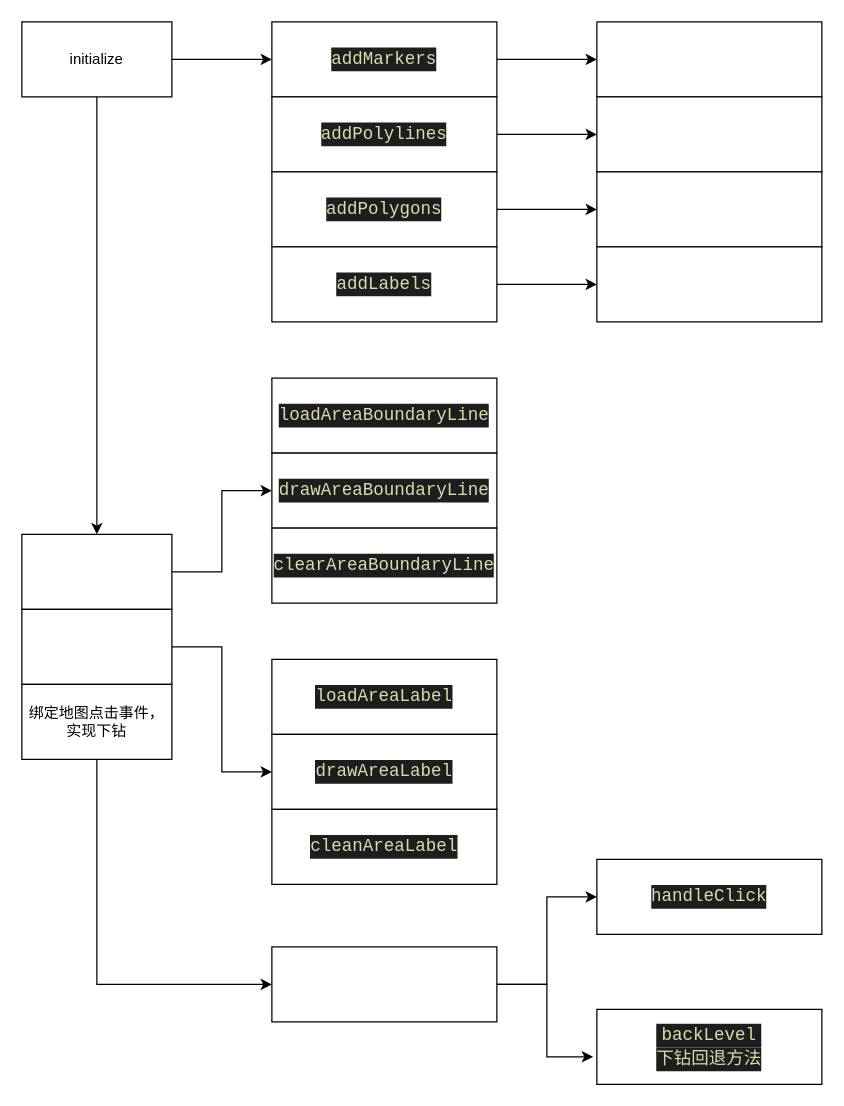
The diagram is 844 pixels wide and 1106 high, and some of its shapes have lost their labels. Each missing label, with the centre of its shape:
"addLabel" goes at pixel 709 284.
"addMarker" goes at pixel 709 59.
"addPolygon" goes at pixel 709 209.
"addPolyline" goes at pixel 709 134.
"initEvents" goes at pixel 384 984.
"绘制区域标识" goes at pixel 96 646.
"绘制区域边界" goes at pixel 96 571.
